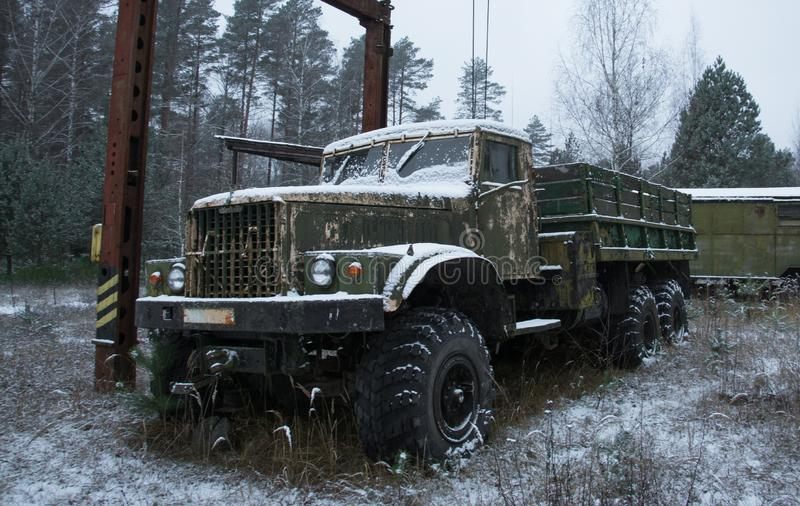camion: (143, 120, 692, 411)
